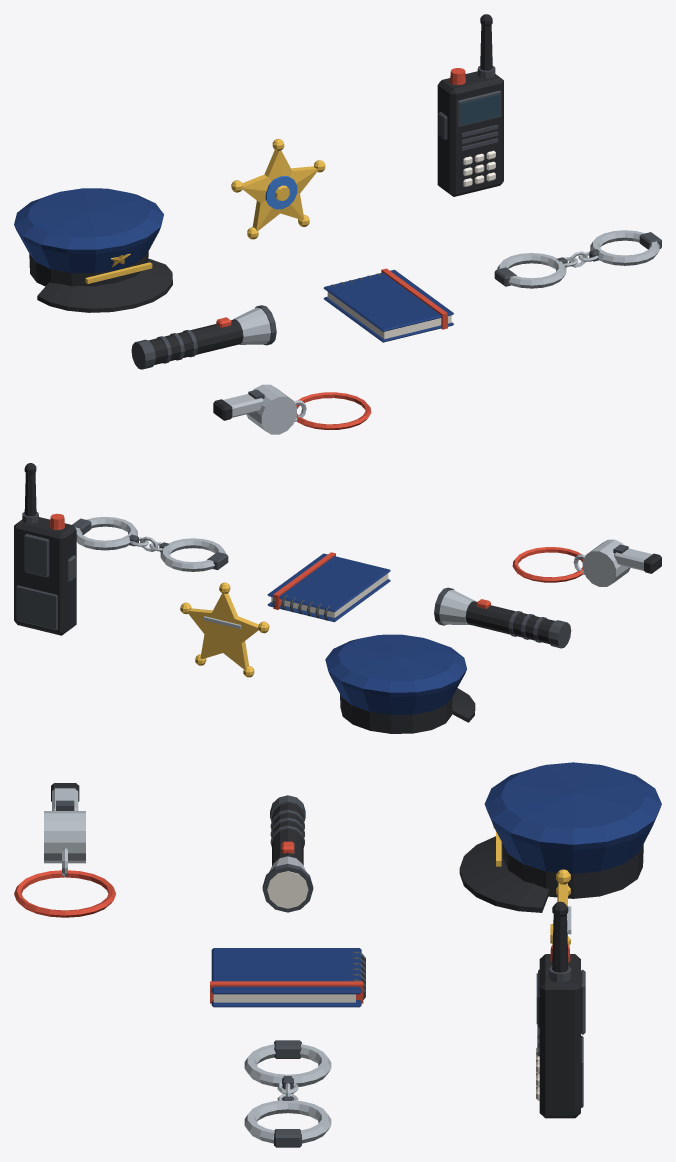
File: police-gear-set.glb
The picture shows the model from 3 angles, top to bottom: view 1: azimuth 30°, elevation 25°; view 2: azimuth 150°, elevation 25°; view 3: azimuth 270°, elevation 25°; orthographic projection. The views are drawn at different scales.
Visible parts, largest first — view 1: Cap_Crown, Radio_Body, Notebook_Cover, Cap_Visor, Badge_Star, Flashlight_Body, Whistle_Barrel, Cap_Band, Cuff_L, Cuff_R, Whistle_Lanyard, Flashlight_Head (+3 smaller); view 2: Cap_Crown, Radio_Body, Notebook_Cover, Badge_Star, Cap_Band, Flashlight_Body, Battery_Door, Whistle_Barrel, Cuff_L, Cuff_R, Radio_BeltClip, Whistle_Lanyard (+9 smaller); view 3: Cap_Crown, Notebook_Cover, Radio_Body, Cap_Visor, Cap_Band, Whistle_Barrel, Cuff_R, Cuff_L, Whistle_Lanyard, Notebook_Pages, Flashlight_Body, Flashlight_Lens (+4 smaller).
Part boxes in pixels (x1,y1,x2,y2): Cap_Crown: [14, 188, 163, 273]; Radio_Body: [437, 71, 503, 196]; Notebook_Cover: [323, 269, 453, 331]; Cap_Visor: [37, 258, 172, 312]; Badge_Star: [242, 150, 317, 231]; Flashlight_Body: [149, 319, 243, 364]; Whistle_Barrel: [246, 384, 296, 434]; Cap_Band: [29, 251, 148, 286]; Cuff_L: [497, 253, 566, 288]; Cuff_R: [590, 230, 659, 265]; Whistle_Lanyard: [296, 392, 371, 429]; Flashlight_Head: [233, 307, 270, 344]; Cap_Crown: [325, 634, 466, 714]; Radio_Body: [14, 517, 76, 635]; Notebook_Cover: [267, 553, 390, 612]; Badge_Star: [187, 593, 258, 669]; Cap_Band: [340, 694, 452, 733]; Flashlight_Body: [465, 601, 554, 643]; Battery_Door: [16, 585, 57, 630]; Whistle_Barrel: [582, 539, 630, 586]; Cuff_L: [160, 538, 225, 571]; Cuff_R: [75, 516, 137, 550]; Radio_BeltClip: [24, 534, 49, 577]; Whistle_Lanyard: [512, 547, 583, 582]; Cap_Crown: [484, 762, 661, 873]; Notebook_Cover: [211, 948, 361, 994]; Radio_Body: [539, 954, 580, 1118]; Cap_Visor: [459, 836, 549, 912]; Cap_Band: [502, 844, 643, 898]; Whistle_Barrel: [44, 811, 85, 863]; Cuff_R: [244, 1100, 331, 1143]; Cuff_L: [244, 1044, 331, 1086]; Whistle_Lanyard: [14, 870, 115, 917]; Notebook_Pages: [213, 994, 355, 1002]; Flashlight_Body: [272, 803, 303, 865]; Flashlight_Lens: [267, 871, 308, 908].
Bounding box in the file's own units: 4.09 × 1.25 × 3.46.
